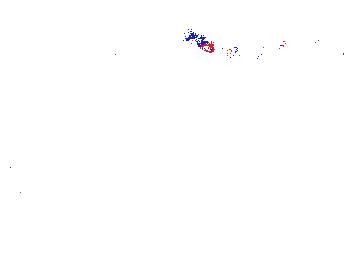red belly glassfish: (188, 31, 218, 56)
redtail glassfish: (225, 38, 294, 63), (299, 27, 346, 53)
